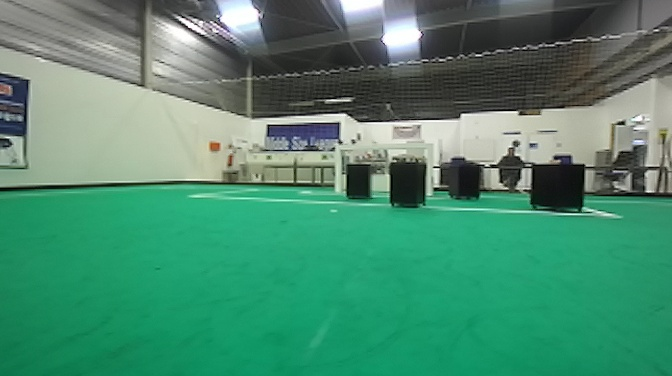goalpost: (423, 140, 435, 198), (333, 147, 344, 197)
